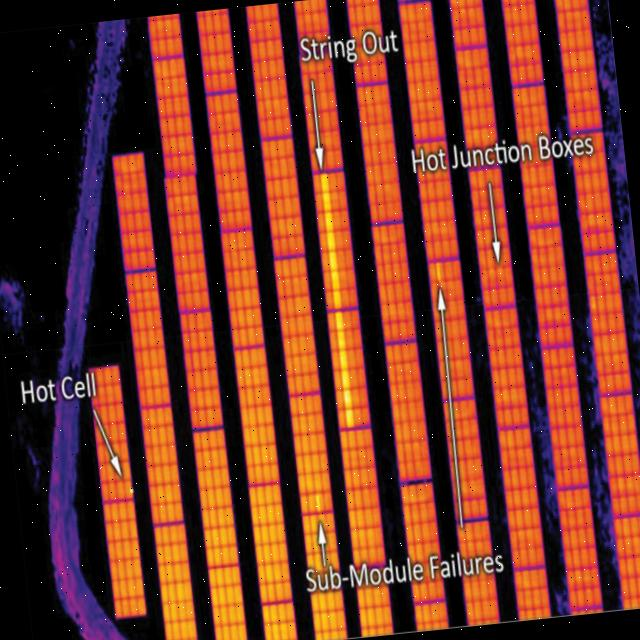Hotspot: (321, 174, 357, 441), (312, 494, 320, 508), (438, 261, 442, 278), (126, 484, 132, 492)
